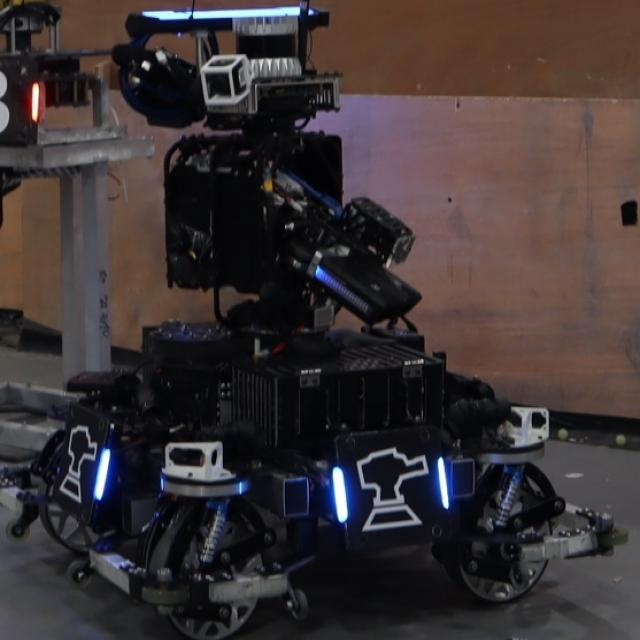Bs: (333, 439, 449, 532), (55, 409, 113, 516)
